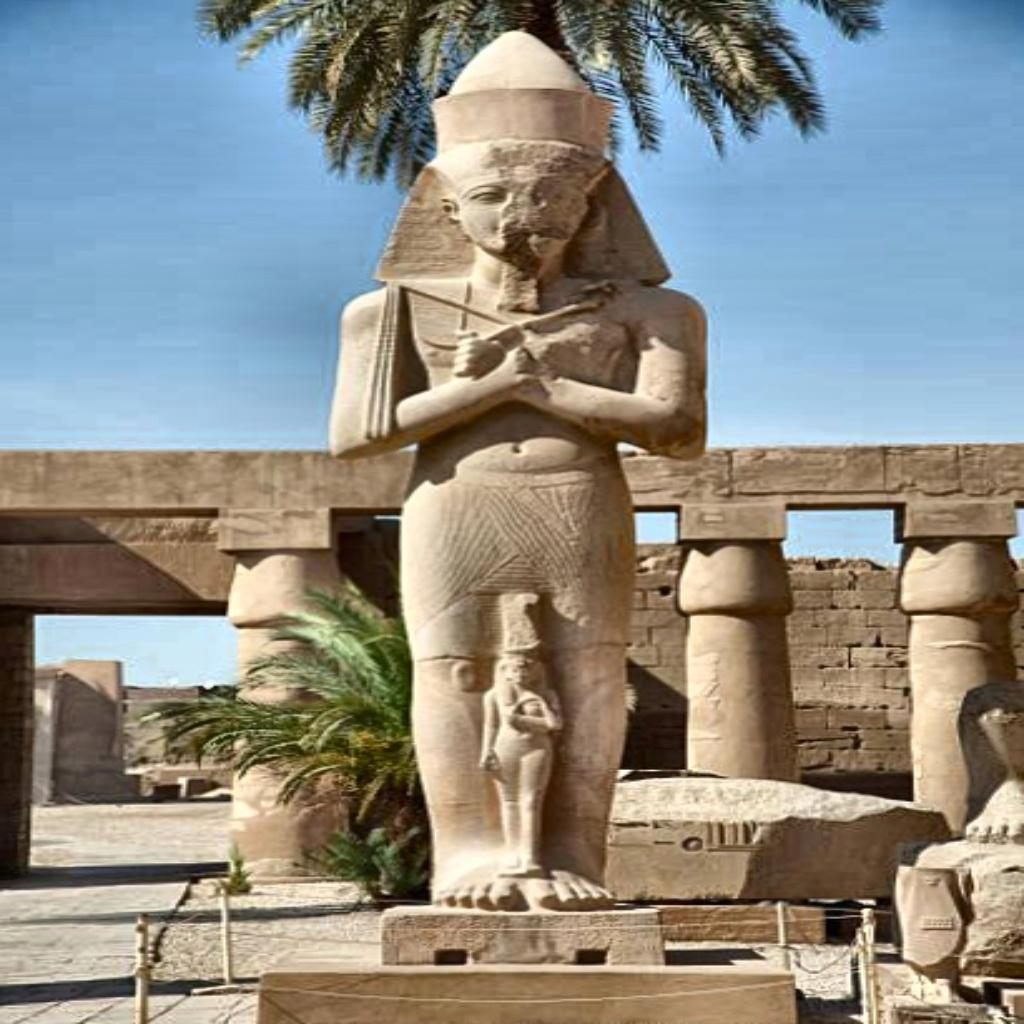Standing Statue of King Ramses II: (324, 28, 716, 912)
